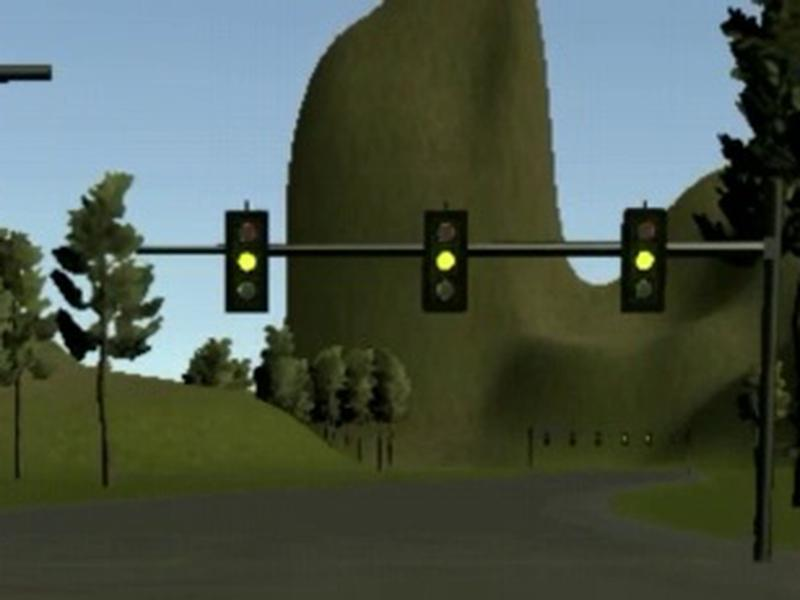Yellow: (422, 209, 469, 313), (621, 207, 667, 312), (226, 210, 268, 314)
